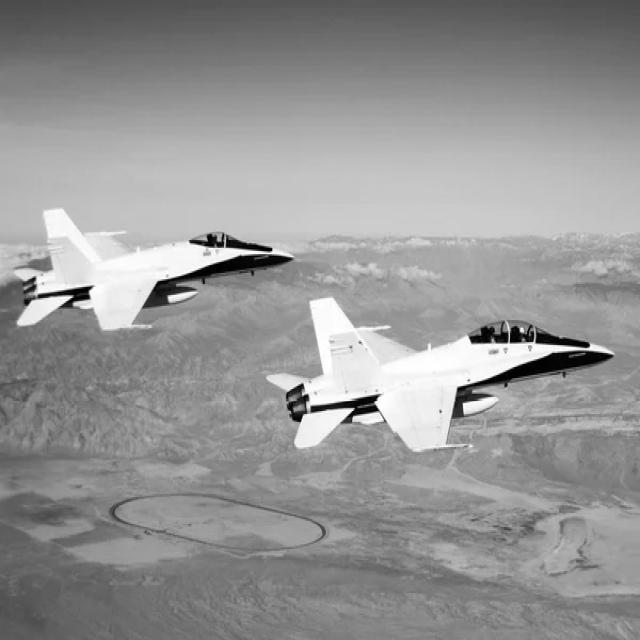Aircraft: (272, 284, 613, 452), (13, 198, 294, 342)
